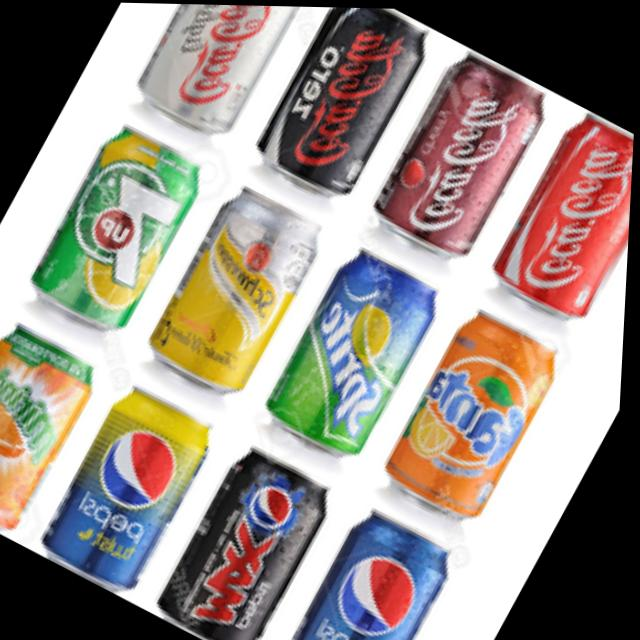aluminum_soda_cans: (132, 178, 337, 412), (30, 370, 234, 603), (373, 300, 569, 533), (258, 240, 453, 470), (19, 116, 212, 343), (365, 40, 554, 263), (153, 439, 344, 640), (249, 4, 437, 207), (490, 104, 636, 326), (279, 500, 466, 640), (132, 2, 316, 142), (0, 314, 111, 541)
